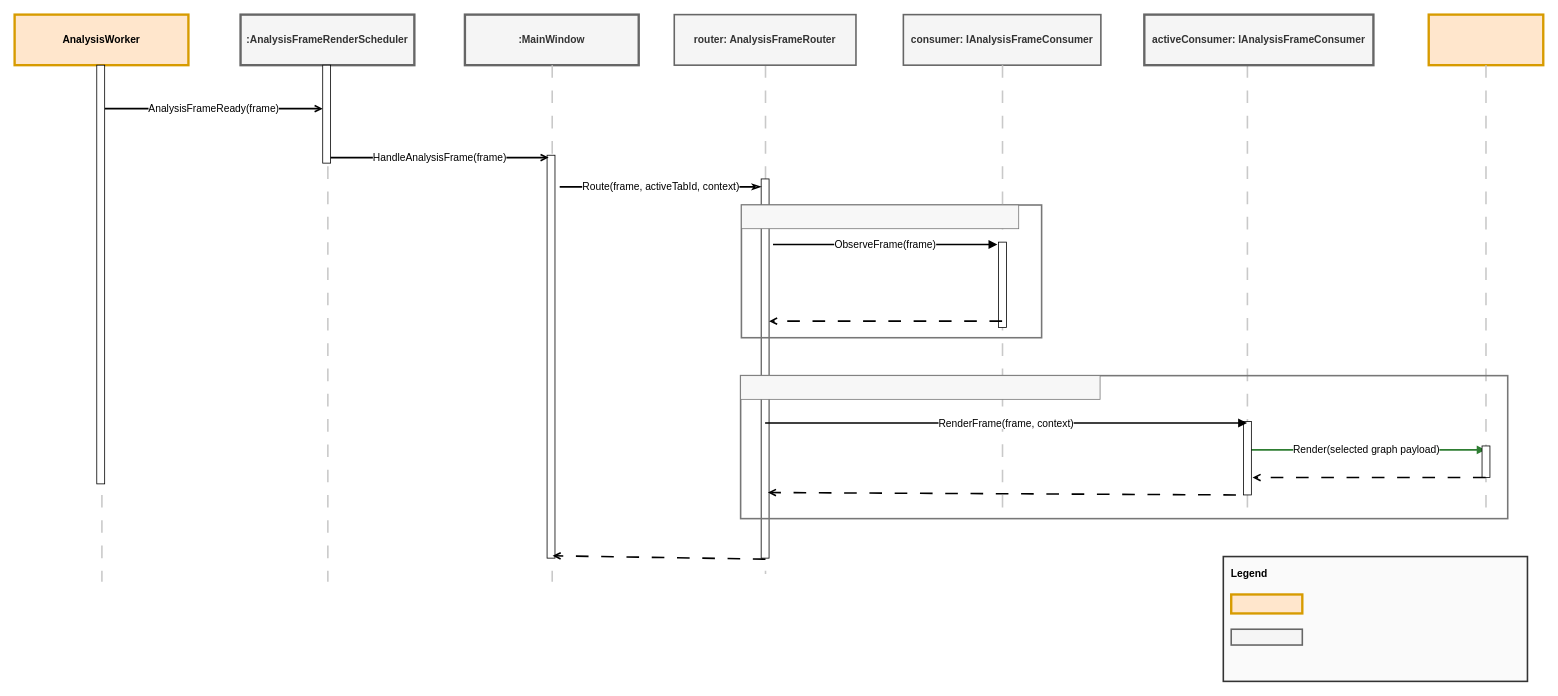
This 1558x696 diagram has some shape labels left out. The centre of each missing label's shape, as x and y in pixels:
alt [ Active Tab only ]: the point at 920,387
Loop [ All Registered consumer ]: the point at 880,216
Renderer: the point at 1485,39
